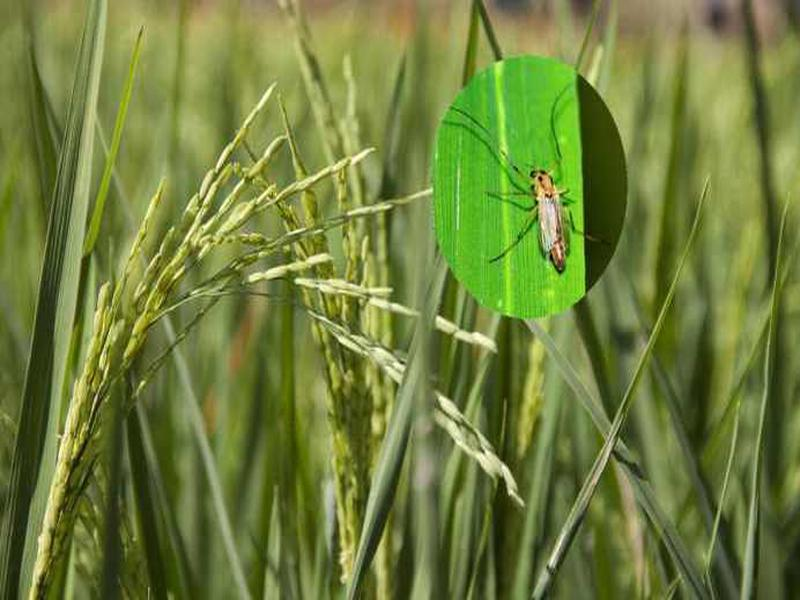Gall_midge: (503, 149, 597, 295)
